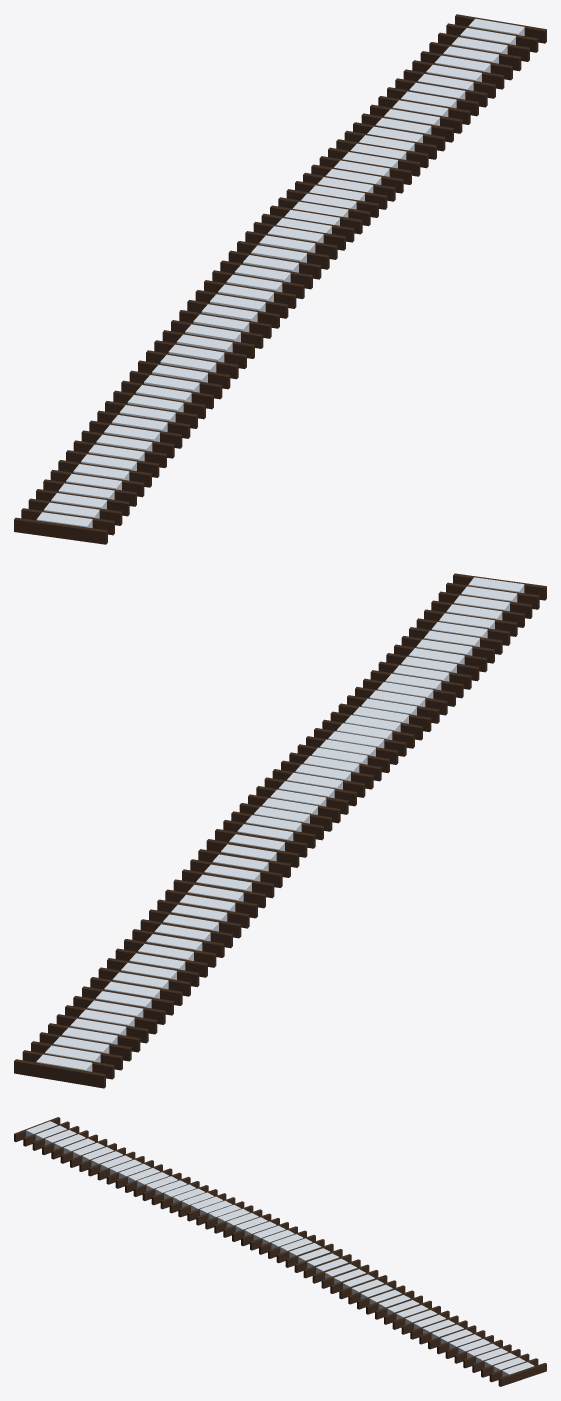
Rendered from Ties_0_-1.fbx.
The picture shows the model from 3 angles, top to bottom: view 1: azimuth 30°, elevation 25°; view 2: azimuth 210°, elevation 25°; view 3: azimuth 270°, elevation 25°; orthographic projection. The views are drawn at different scales.
Visible parts, largest first — view 1: Ties_0_-1; view 2: Ties_0_-1; view 3: Ties_0_-1.
Part boxes in pixels (<box>): Ties_0_-1: <box>14,14,546,544</box>; Ties_0_-1: <box>14,573,546,1088</box>; Ties_0_-1: <box>14,1117,546,1386</box>.
Bounding box in the file's own units: 8918 × 314 × 7521.
